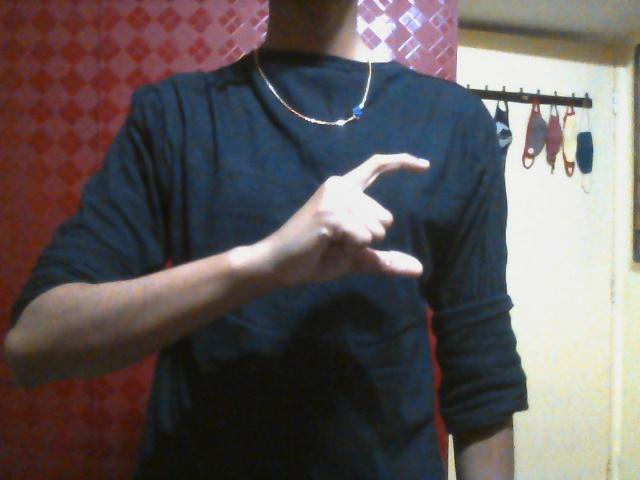C: (271, 151, 431, 285)
